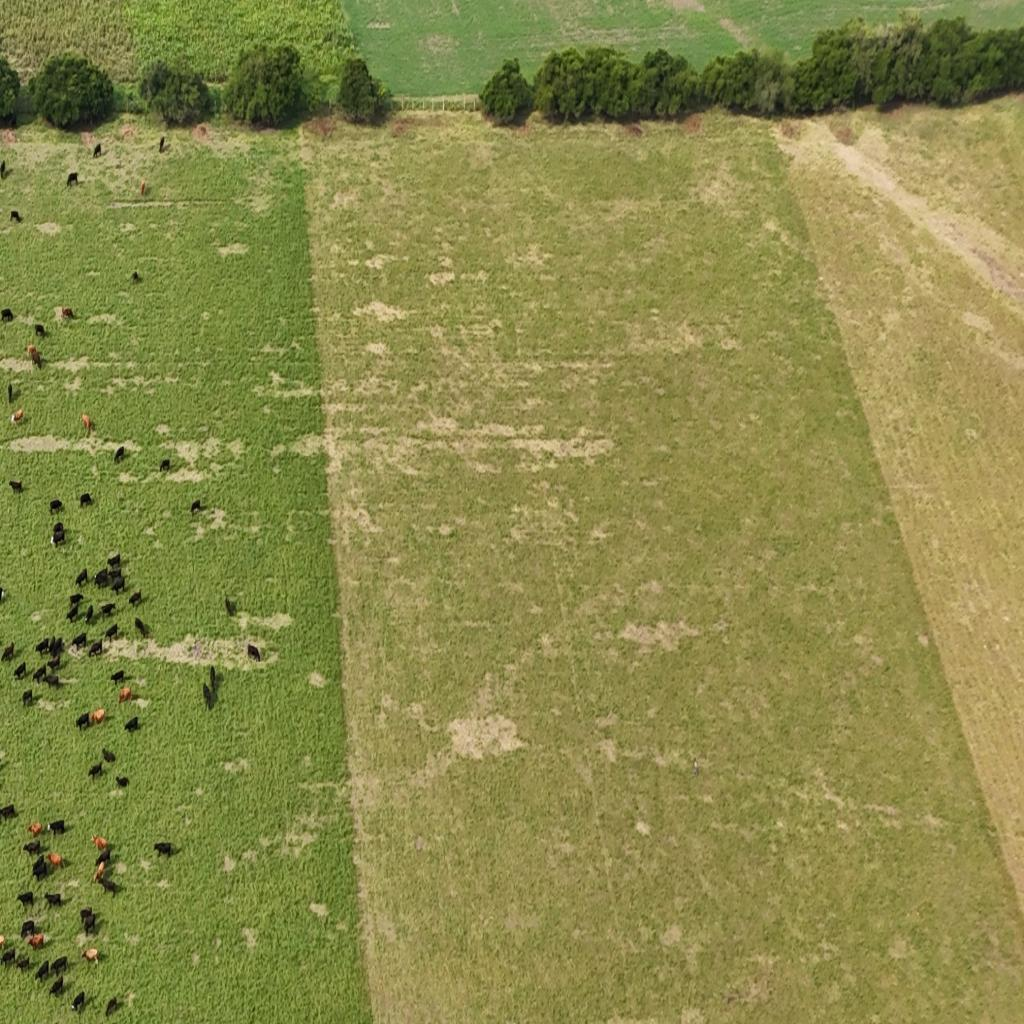cow: (100, 876, 121, 900), (80, 907, 96, 935), (32, 854, 48, 880), (34, 958, 50, 982), (42, 654, 66, 670), (153, 842, 176, 858), (48, 636, 64, 659), (49, 973, 64, 997), (51, 955, 68, 976), (93, 568, 110, 589), (16, 890, 34, 909), (93, 859, 106, 885), (71, 990, 85, 1014), (0, 947, 16, 968), (91, 834, 108, 853), (43, 891, 62, 908), (20, 919, 36, 939), (44, 670, 60, 690), (52, 524, 66, 546), (27, 932, 45, 949), (46, 852, 64, 869), (48, 819, 66, 836), (34, 638, 51, 656), (32, 665, 48, 684), (0, 803, 16, 821), (24, 840, 42, 856), (71, 632, 87, 650), (105, 996, 119, 1016), (74, 568, 88, 588), (111, 575, 125, 595), (66, 602, 80, 622), (89, 708, 105, 725), (83, 947, 99, 964), (246, 642, 260, 661), (16, 953, 30, 972), (124, 717, 140, 733), (27, 822, 43, 838), (100, 602, 116, 618), (224, 595, 236, 616), (88, 762, 102, 780), (82, 413, 94, 434), (2, 641, 14, 662), (118, 686, 132, 704), (76, 713, 90, 731), (30, 349, 42, 370), (107, 553, 121, 571), (134, 617, 147, 636), (100, 849, 113, 868), (0, 160, 12, 180), (89, 641, 103, 658), (104, 624, 118, 641), (129, 589, 142, 607), (203, 683, 211, 710), (14, 662, 26, 680), (9, 479, 23, 494), (69, 593, 83, 608), (190, 499, 203, 515), (102, 748, 115, 764), (21, 690, 34, 706), (11, 408, 24, 424), (84, 604, 94, 624), (115, 775, 129, 789), (50, 500, 64, 514), (111, 670, 124, 685), (114, 446, 125, 463), (61, 306, 75, 319), (80, 493, 92, 508), (67, 172, 78, 188), (2, 123, 13, 139), (1, 308, 13, 322), (210, 665, 216, 691), (35, 324, 46, 338), (10, 210, 22, 222), (27, 344, 37, 358), (0, 585, 7, 604), (160, 459, 170, 472), (131, 271, 141, 284), (93, 143, 102, 157), (8, 383, 13, 404), (158, 136, 164, 152), (140, 180, 146, 195), (164, 140, 170, 152)
